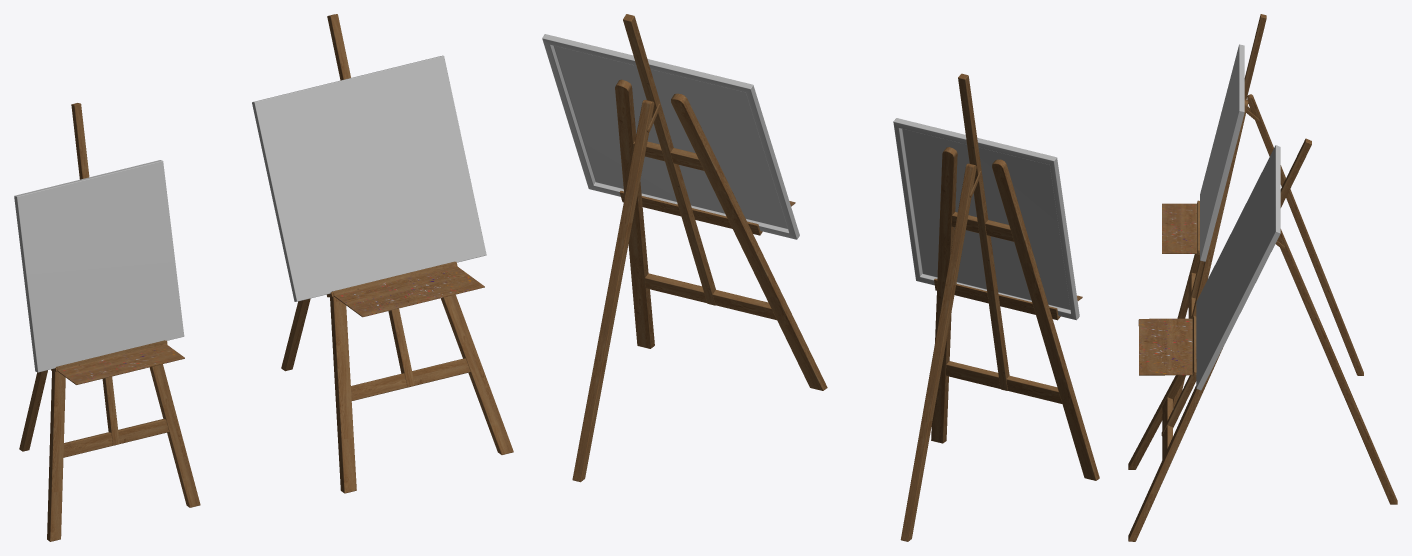
The model's file is Easel Stand.fbx.
3 renders of one model, left to right at view 1: azimuth 30°, elevation 25°; view 2: azimuth 150°, elevation 25°; view 3: azimuth 270°, elevation 25°, orthographic. The views are drawn at different scales.
Visible parts, largest first — view 1: Art_board_2, Art_board_1, Easel_Stand_2, Easel_Stand_1; view 2: Art_board_2, Easel_Stand_2, Easel_Stand_1, Art_board_1; view 3: Easel_Stand_2, Art_board_2, Easel_Stand_1, Art_board_1.
Boxes of the visible parts, x1,y1,x2,y2 form: Art_board_2: (252,55,486,301); Art_board_1: (14,160,184,372); Easel_Stand_2: (281,14,513,493); Easel_Stand_1: (19,103,200,541); Art_board_2: (542,34,799,239); Easel_Stand_2: (572,14,827,482); Easel_Stand_1: (900,73,1099,541); Art_board_1: (893,118,1079,320); Easel_Stand_2: (1128,138,1397,541); Art_board_2: (1196,145,1280,390); Easel_Stand_1: (1162,14,1363,408); Art_board_1: (1200,44,1244,261).
Bounding box in the file's own units: 265 × 219 × 147.
Materials: 1 (1 with a texture image).
